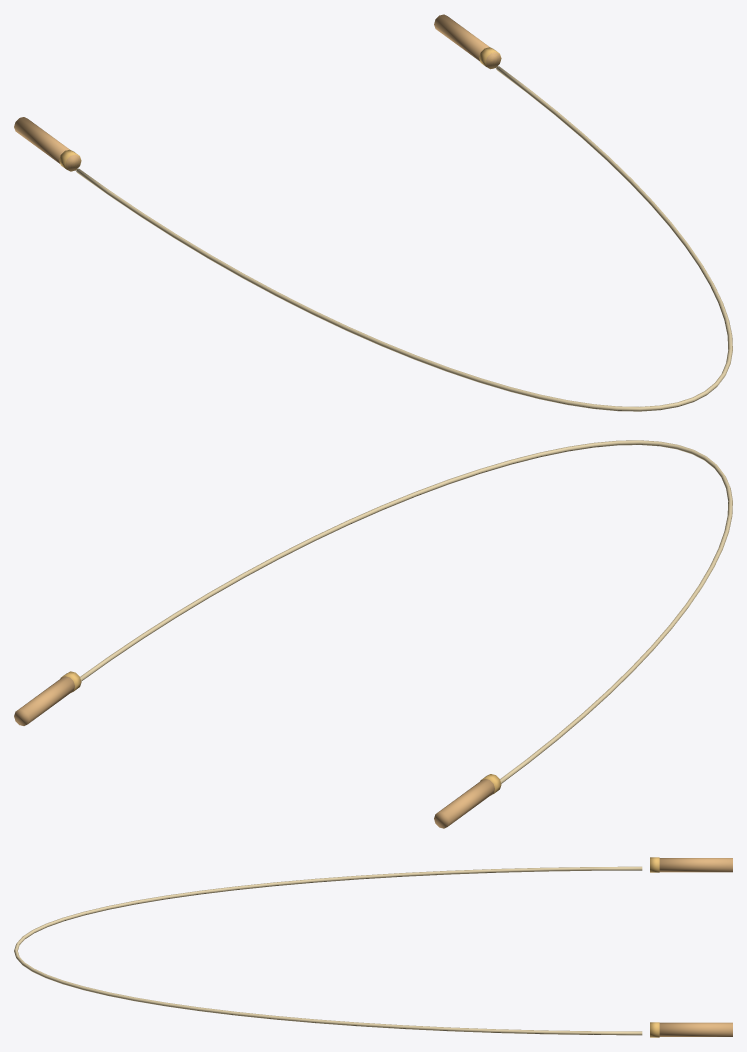
The model's file is corde_sauter.glb.
3 views of the same model, one above another, from view 1: azimuth 30°, elevation 25°; view 2: azimuth 150°, elevation 25°; view 3: azimuth 270°, elevation 25° (orthographic). The views are drawn at different scales.
Visible parts, largest first — view 1: corde_sauter; view 2: corde_sauter; view 3: corde_sauter.
Part boxes in pixels (left/top/right/bottom): corde_sauter: left=14, top=14, right=732, bottom=411; corde_sauter: left=14, top=440, right=732, bottom=828; corde_sauter: left=14, top=857, right=732, bottom=1037.
Bounding box in the file's own units: 0.7339 × 0.0266 × 1.3.
